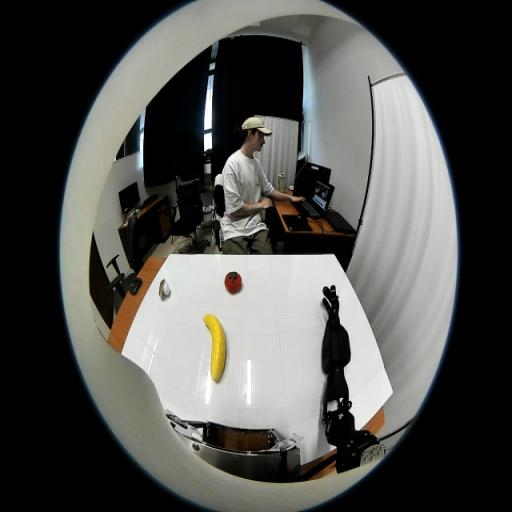Banana: (203, 313, 226, 381)
Mushroom: (158, 278, 170, 296)
RightHand: (328, 305, 339, 318)
Tomato: (224, 272, 242, 293)
